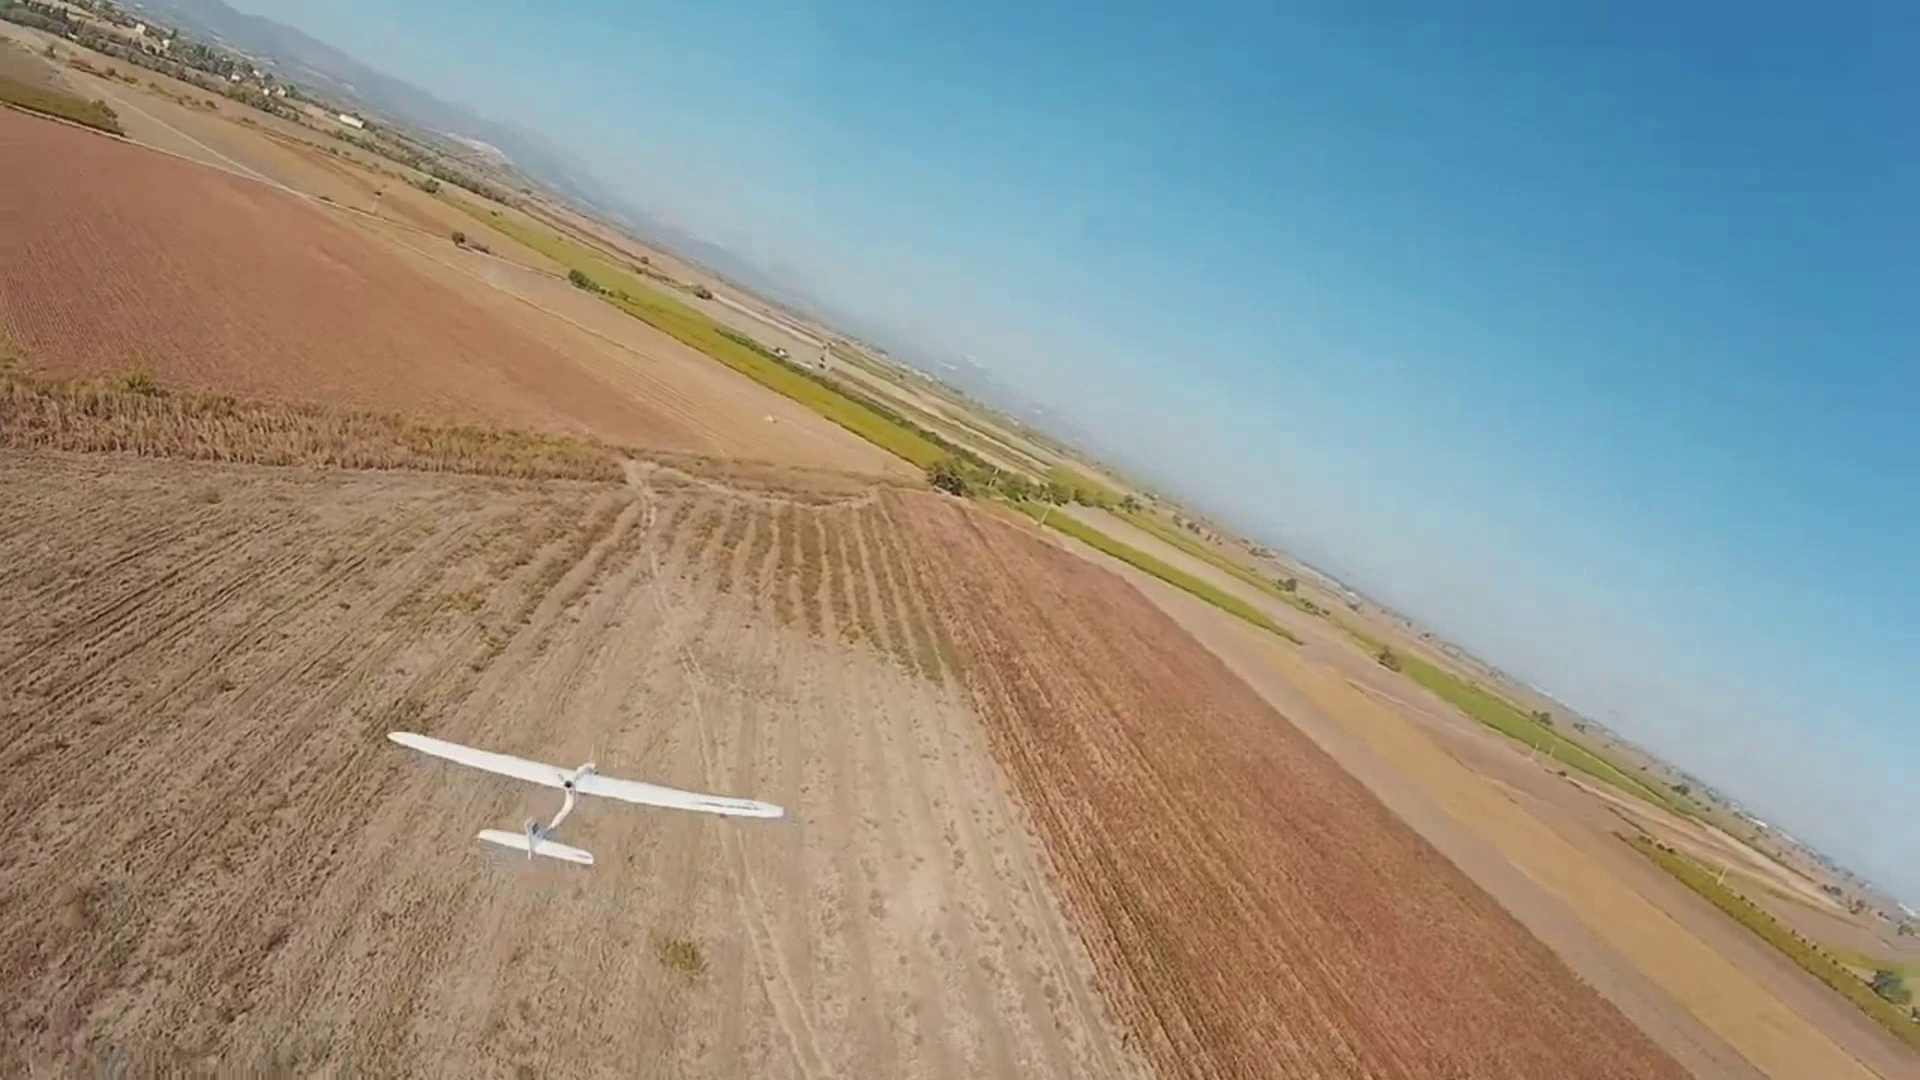airplane: (387, 729, 785, 869)
